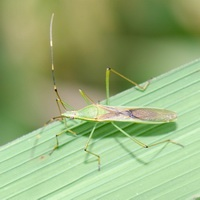insect: (49, 13, 183, 169)
